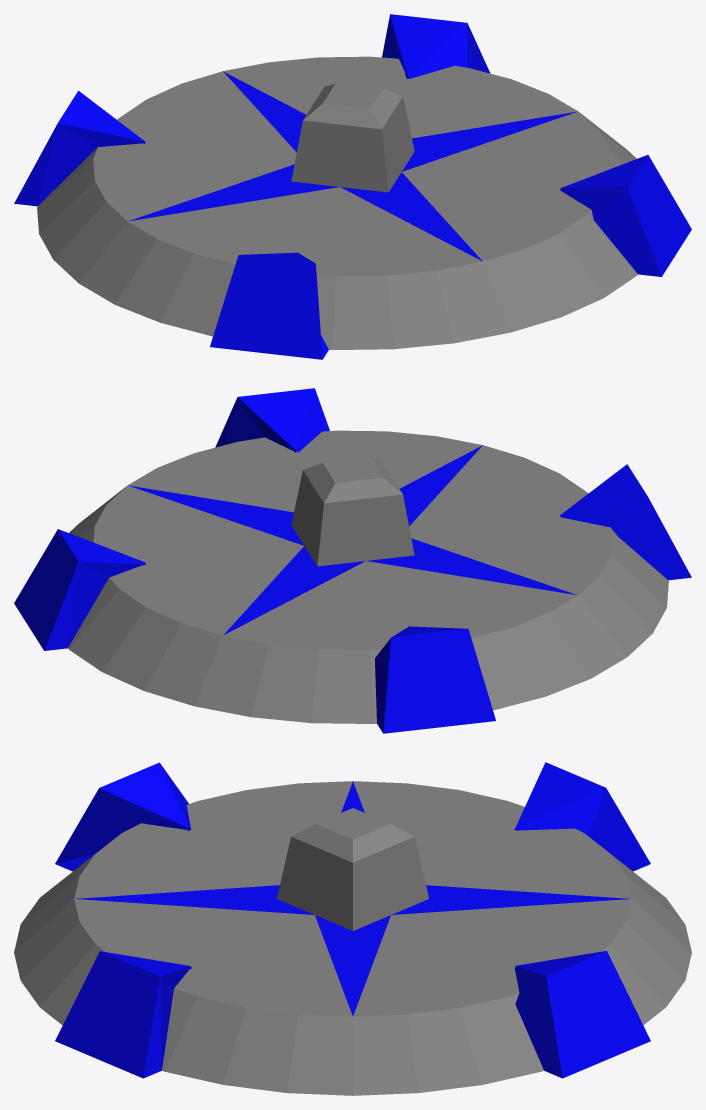
File: Beyblade_Base_Water.fbx
3 views of the same model, one above another, from view 1: azimuth 30°, elevation 25°; view 2: azimuth 150°, elevation 25°; view 3: azimuth 270°, elevation 25° (orthographic). The views are drawn at different scales.
Parts seen in each view (by area): view 1: Circle; view 2: Circle; view 3: Circle.
Boxes of the visible parts, box(x1,y1,x2,y2) form: Circle: box(14, 14, 691, 359); Circle: box(14, 388, 691, 733); Circle: box(14, 762, 691, 1095).
Bounding box in the file's own units: 200 × 41.92 × 200.
Materials: 1 (1 with a texture image).
